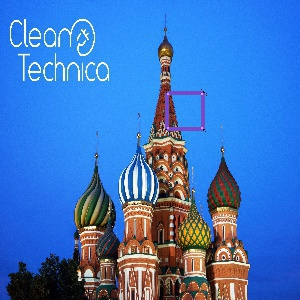square: (165, 90, 206, 132)
